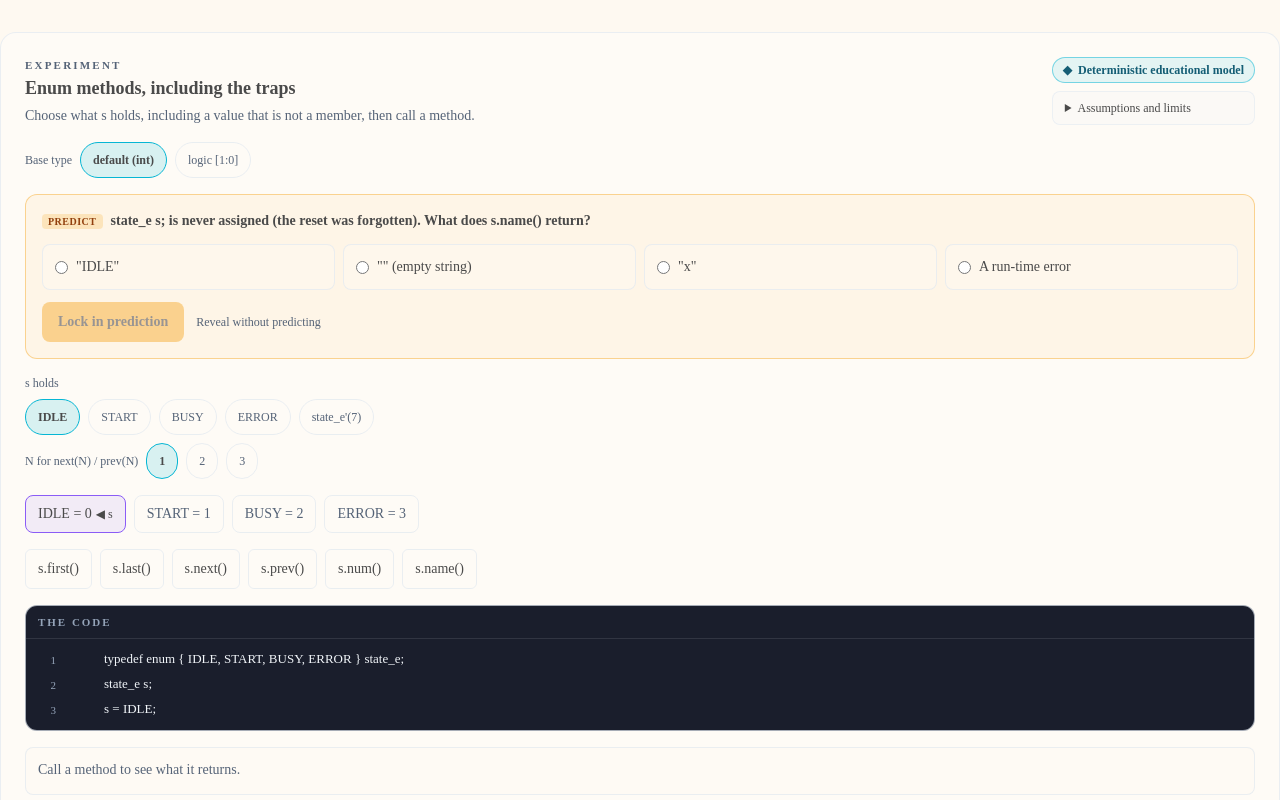
EnumMethodVisualizer › with a logic [1:0] base, the unassigned value is 'x and name() is empty
Click the radio button labelled "logic [1:0]" at {"x": 213, "y": 160}, box [175,142,251,178]
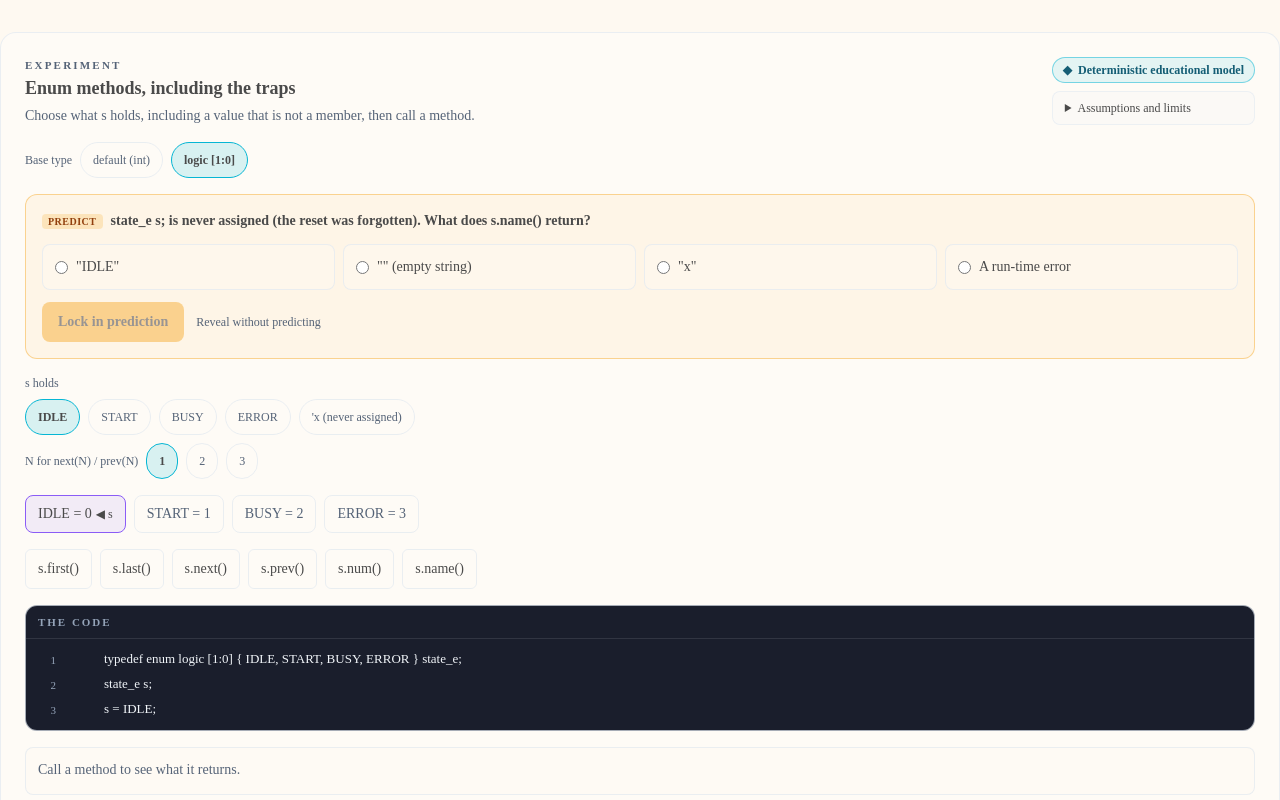
Click the radio button labelled "\"\" (empty string)" at {"x": 362, "y": 267}, box [356,260,369,274]
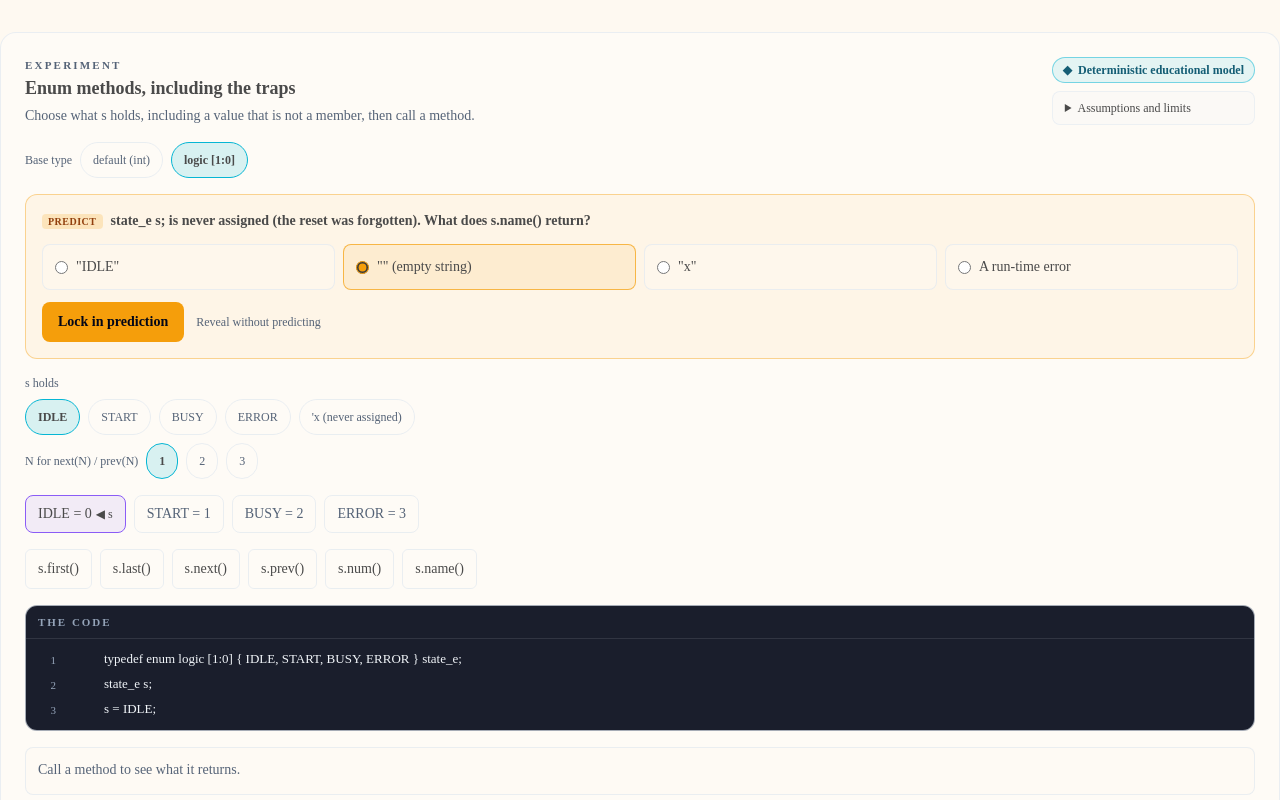
Click the button "Lock in prediction" at {"x": 113, "y": 322}, box [42,302,184,342]
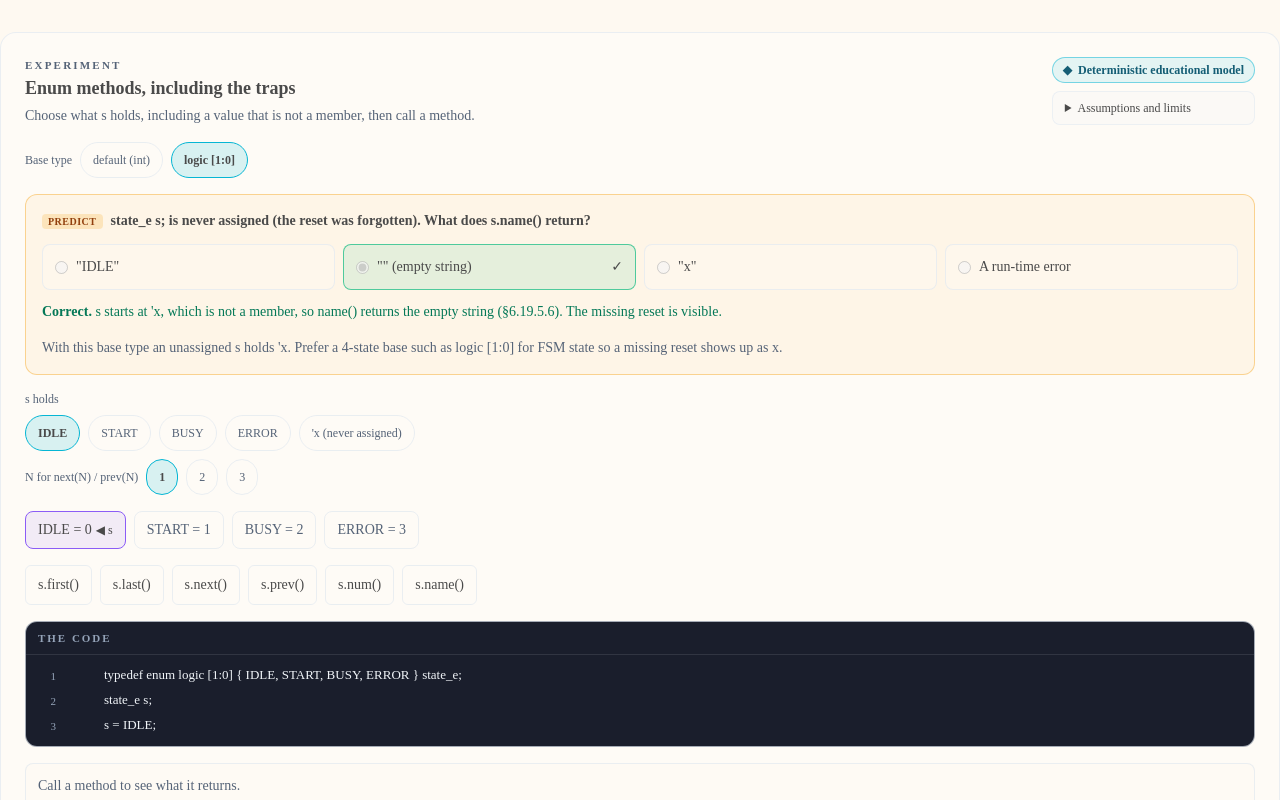
Expected: the text "Correct." is shown, [42,304,95,318]
